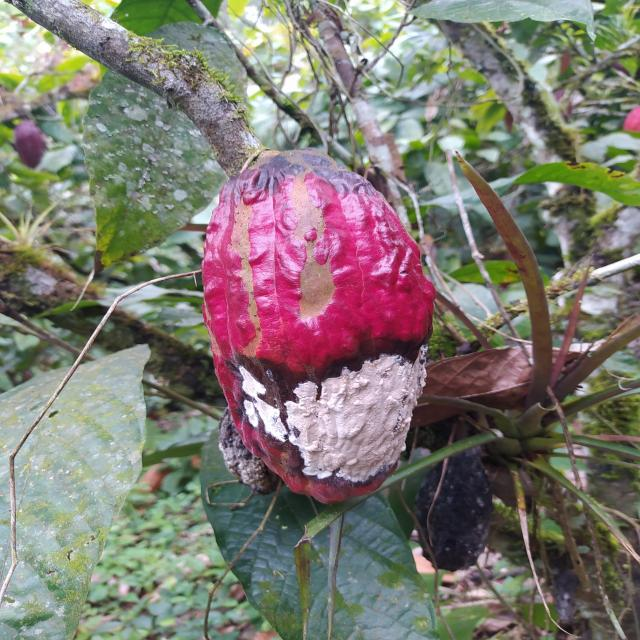Monilia: (201, 145, 433, 506)
